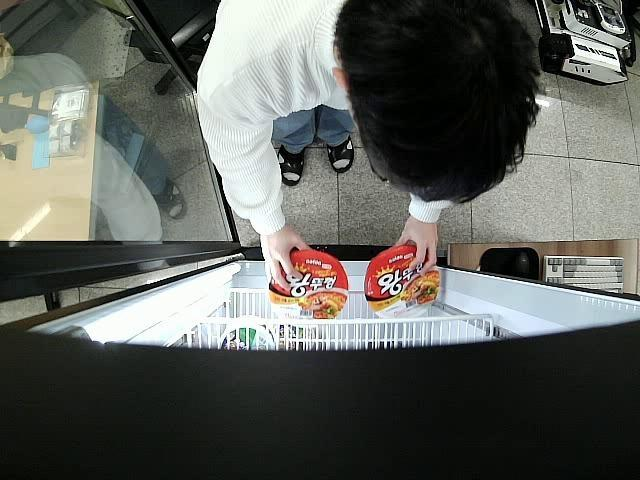10_wangTtukkeong: (269, 252, 350, 328), (365, 244, 439, 320)
